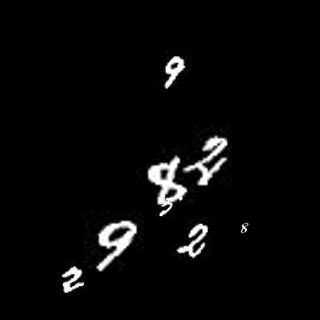eight: (149, 151, 185, 204), (238, 220, 261, 235)
nine: (94, 223, 139, 273), (161, 56, 190, 92)
two: (173, 222, 216, 259), (59, 261, 86, 293)
